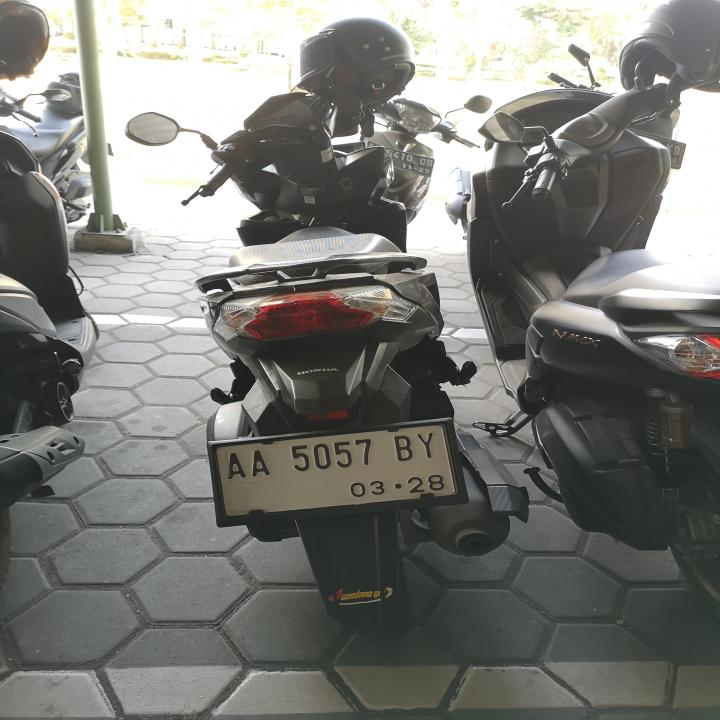plate: (212, 419, 460, 522)
